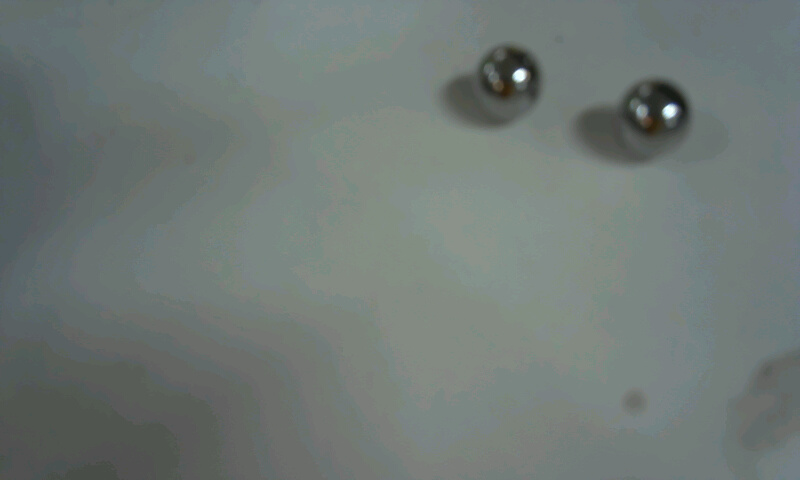steelball: (609, 63, 708, 172), (450, 31, 554, 125)
